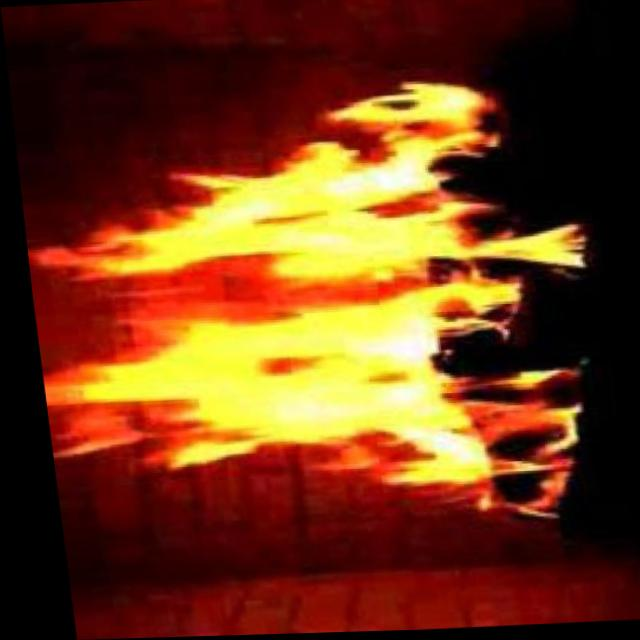Fire: (30, 90, 511, 491)
